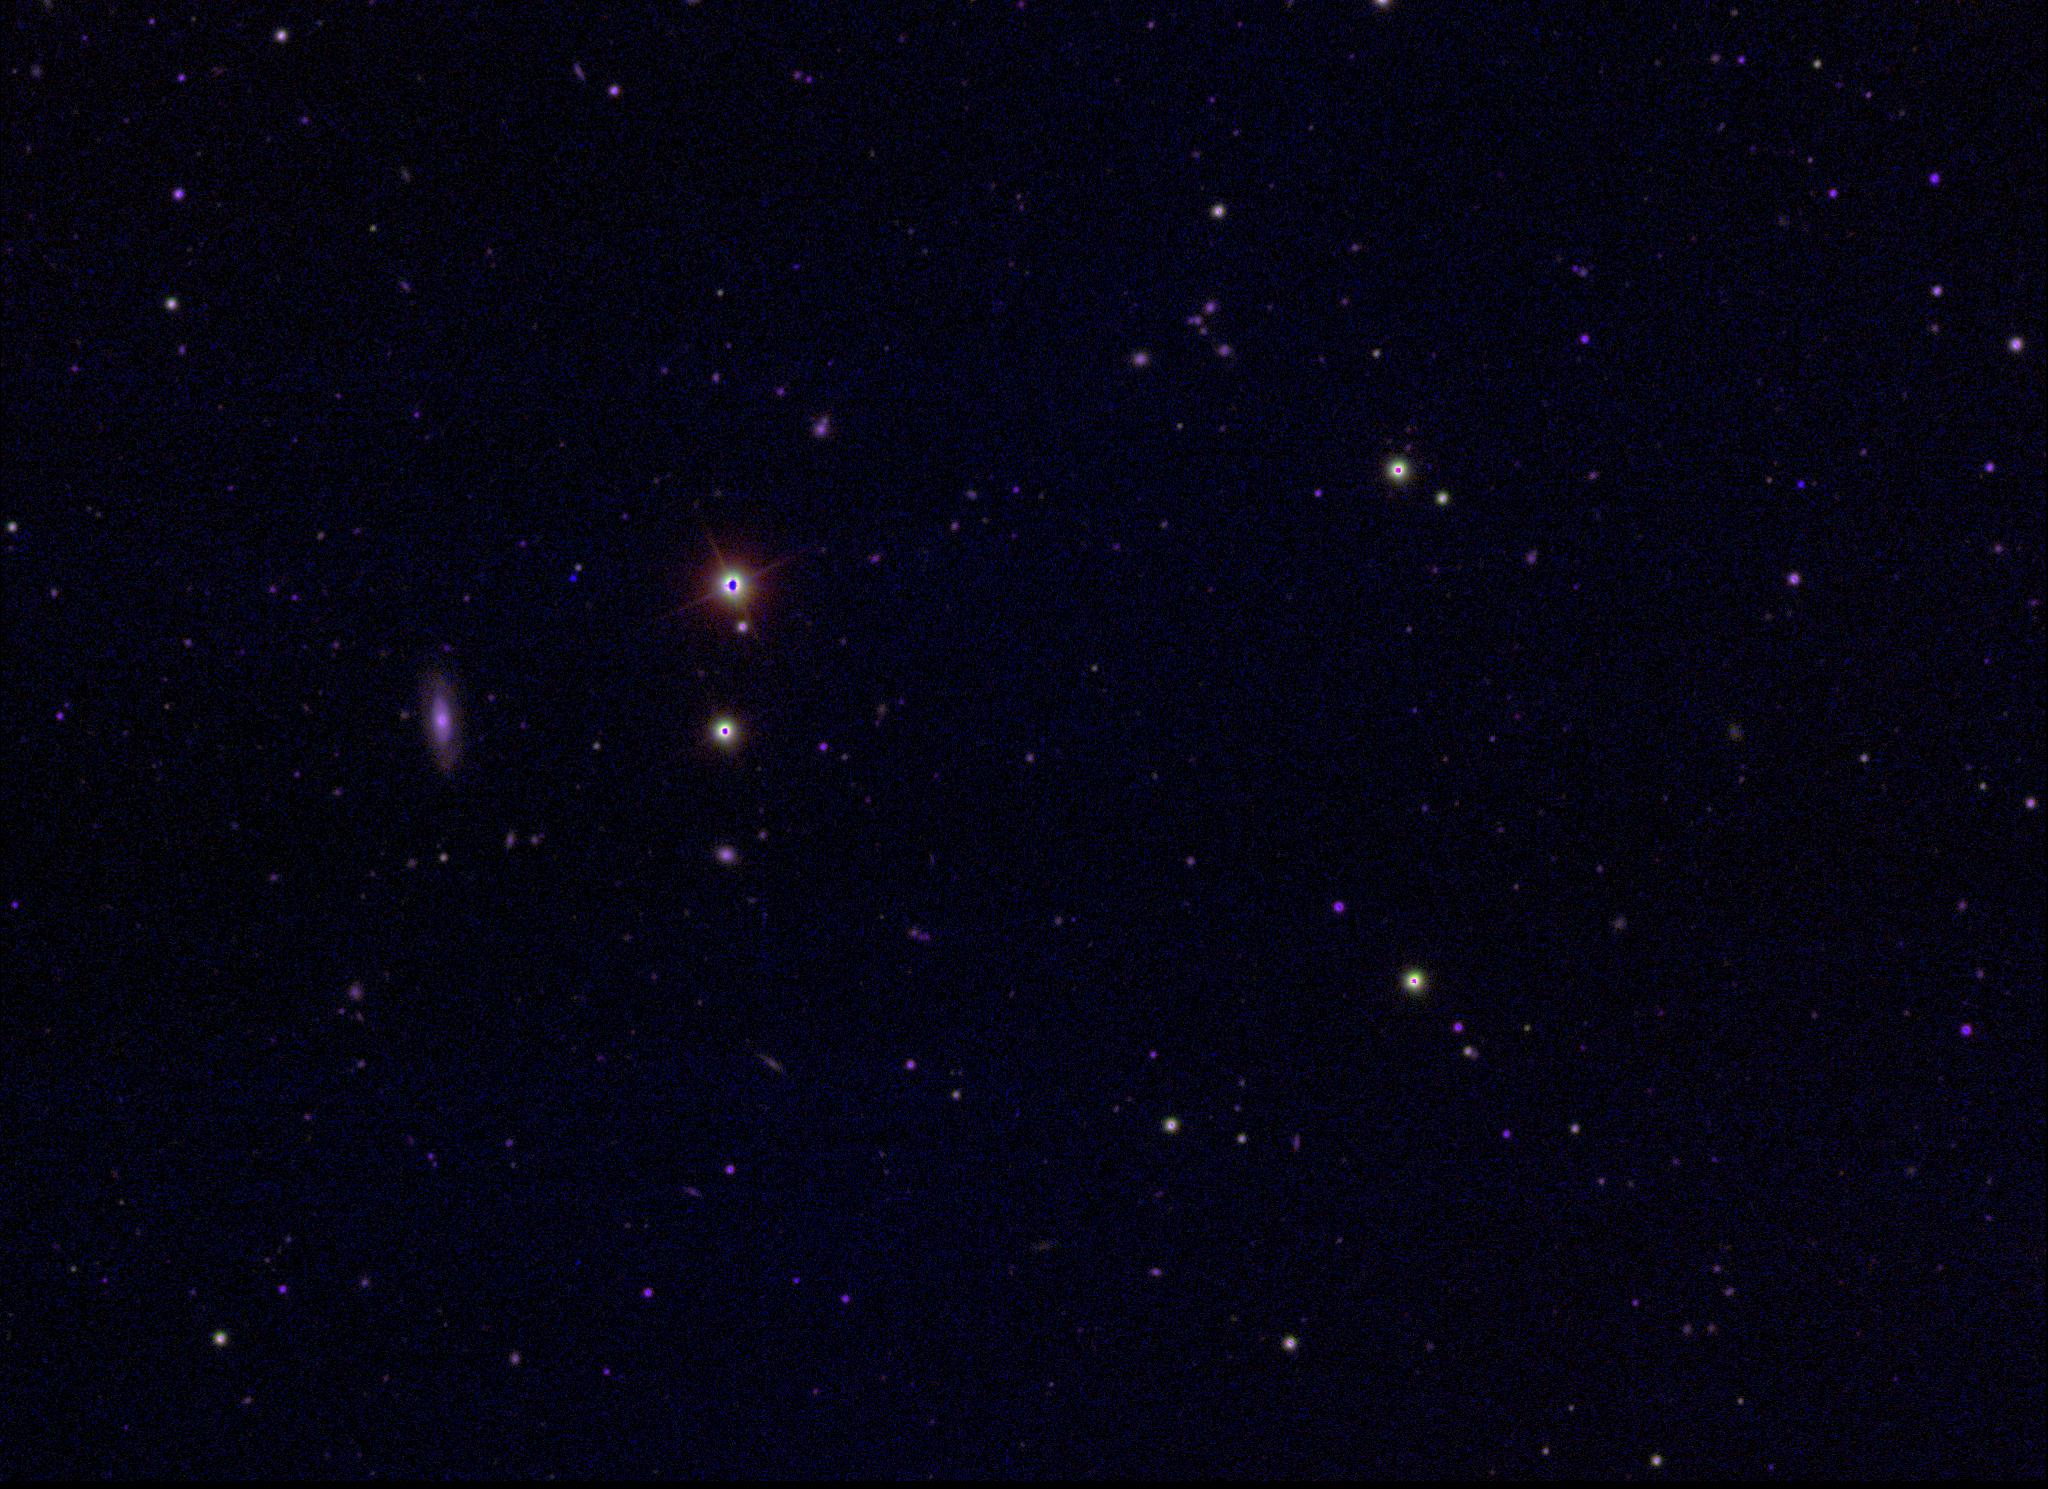L: (564, 570, 579, 584)
